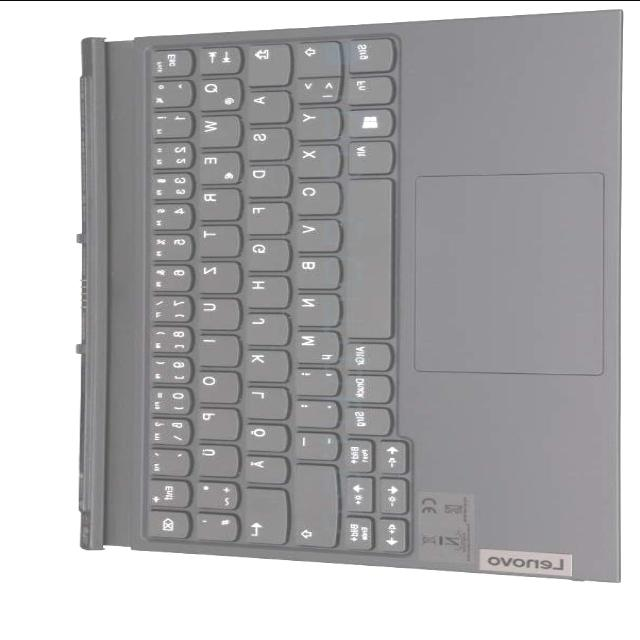0: (144, 384, 191, 412)
1: (148, 108, 192, 136)
2: (146, 139, 193, 167)
3: (146, 170, 192, 198)
4: (147, 201, 191, 229)
5: (147, 231, 191, 259)
6: (146, 261, 192, 290)
7: (146, 292, 190, 320)
8: (146, 322, 190, 350)
9: (146, 353, 192, 381)
a: (242, 87, 288, 120)
accent: (145, 447, 189, 476)
ae: (242, 452, 286, 481)
alt-left: (343, 137, 392, 172)
altgr-right: (341, 338, 389, 368)
b: (291, 253, 339, 287)
c: (290, 178, 339, 212)
caret: (148, 77, 192, 105)
comma: (293, 364, 337, 393)
d: (242, 161, 288, 194)
del: (143, 508, 189, 538)
e: (195, 149, 239, 182)
enter: (240, 486, 286, 543)
f: (243, 199, 287, 231)
g: (244, 236, 288, 269)
h: (245, 272, 287, 306)
hash: (193, 511, 237, 540)
i: (195, 332, 237, 365)
j: (243, 310, 287, 343)
k: (243, 346, 287, 380)
keyboard: (138, 30, 416, 557)
l: (241, 384, 287, 417)
less: (289, 74, 337, 100)
m: (291, 327, 338, 361)
minus: (292, 428, 336, 458)
n: (292, 290, 339, 324)
o: (194, 368, 238, 400)
oe: (242, 420, 286, 450)
p: (194, 406, 238, 438)
plus: (193, 478, 237, 507)
point: (292, 396, 336, 426)
q: (196, 75, 240, 109)
r: (195, 185, 239, 218)
s: (244, 125, 288, 158)
shift-left: (292, 38, 338, 72)
shift-lock: (245, 41, 289, 84)
shift-right: (289, 461, 336, 545)
space: (345, 175, 392, 337)
ss: (146, 414, 190, 443)
strg-left: (343, 34, 392, 70)
strg-right: (340, 404, 389, 433)
t: (195, 223, 239, 255)
tab: (196, 43, 240, 71)
u: (195, 295, 239, 327)
ue: (194, 441, 238, 475)
v: (291, 216, 339, 250)
w: (195, 112, 239, 145)
x: (292, 141, 338, 175)
y: (292, 104, 339, 138)
z: (196, 258, 238, 291)
